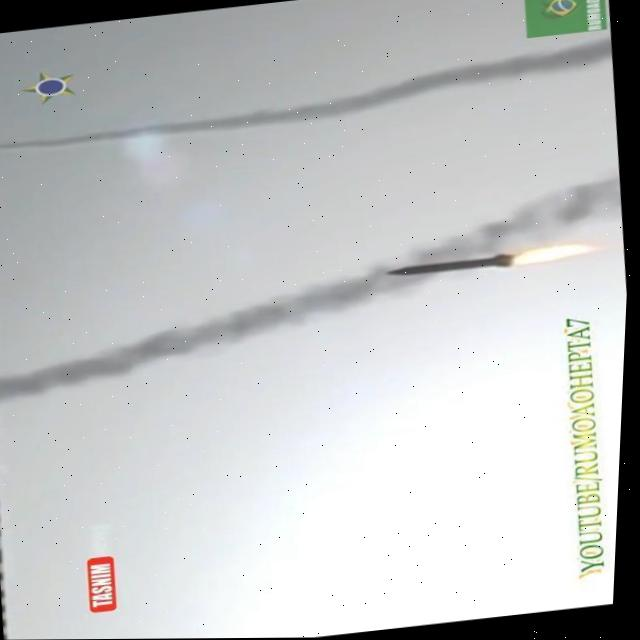missile: (382, 248, 519, 286)
